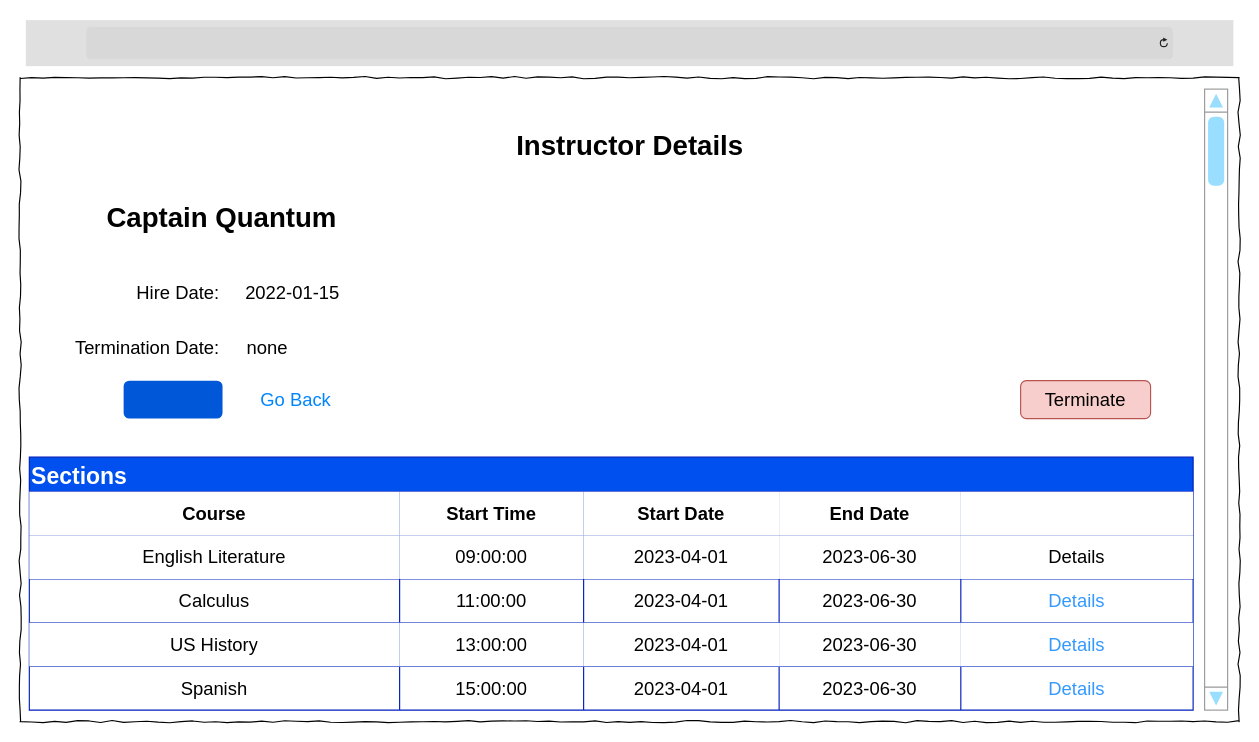
This 1259x742 diagram has some shape labels left out. The shapes that lost their labels are listed below. From the top down, each one's centre as x and y in pixels, then its label:
(629,42): fourthwallacademy.com/Manage/Instructors/1
(172,399): Edit
